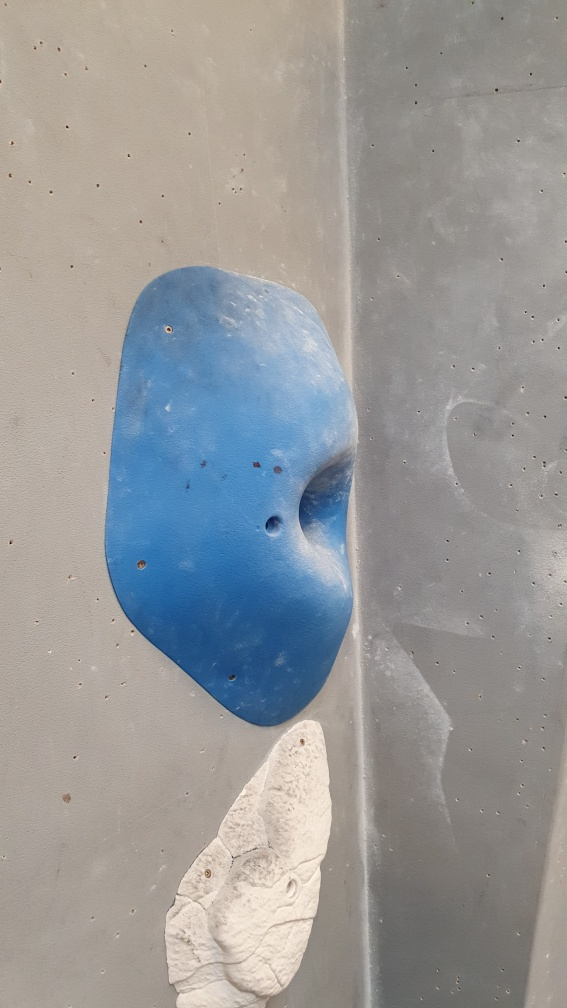Pocket: (100, 262, 358, 729)
